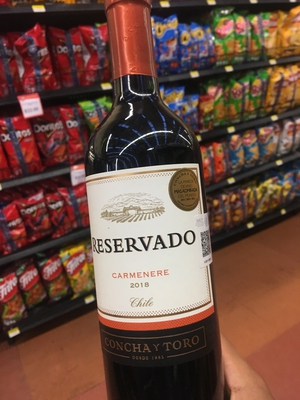reservado carmenere: (74, 7, 236, 394)
